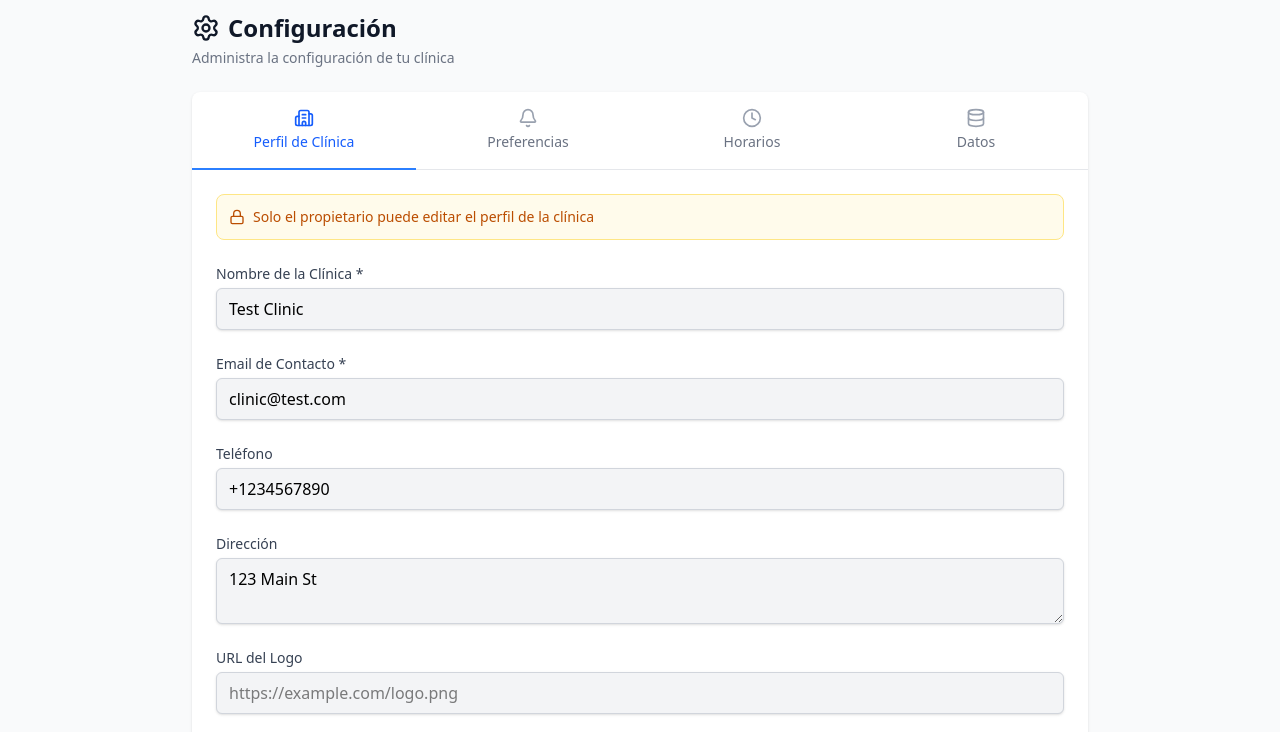
Scenario: SettingsPage › should show data export form for ADMIN
Click the button "Datos" at x=976, y=131, box [864,92,1088,170]
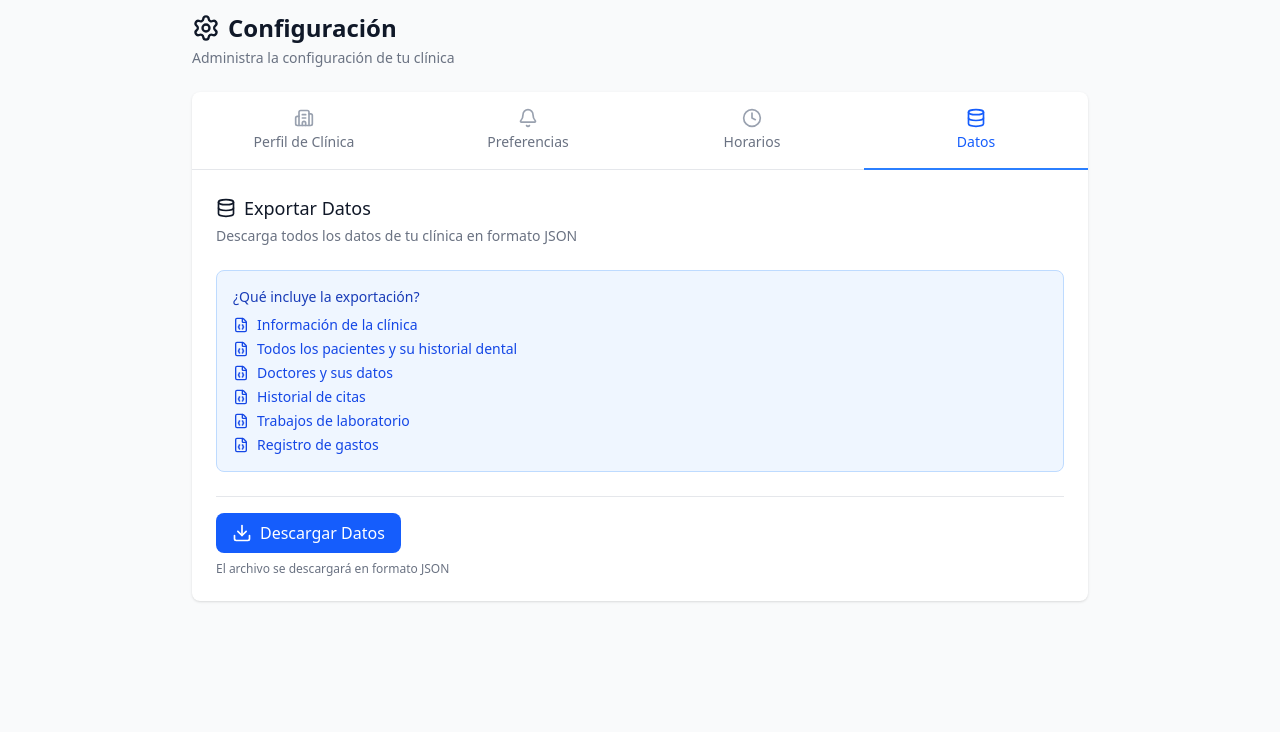
Expected: the heading "Exportar Datos" is shown, [216,196,371,220]
